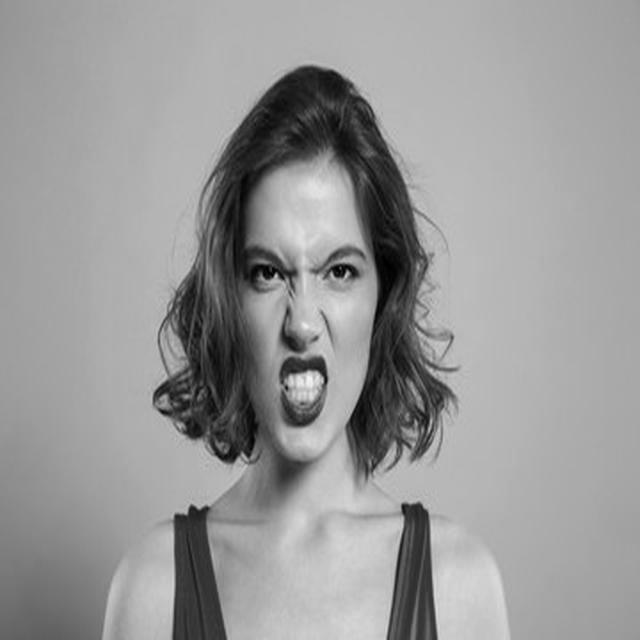Angry: (235, 166, 378, 462)
